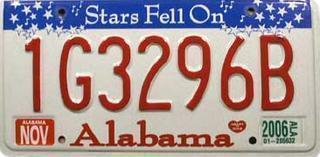placa de veiculo: (1, 2, 316, 150)
